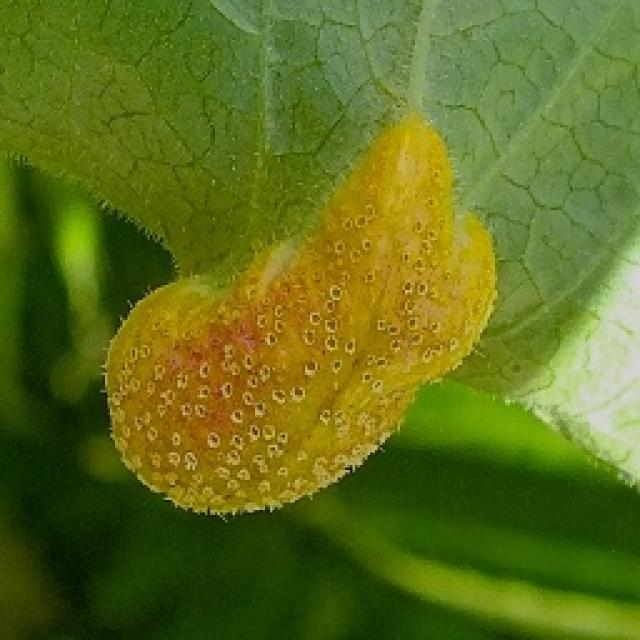Elderberry_rust: (90, 140, 544, 504)
